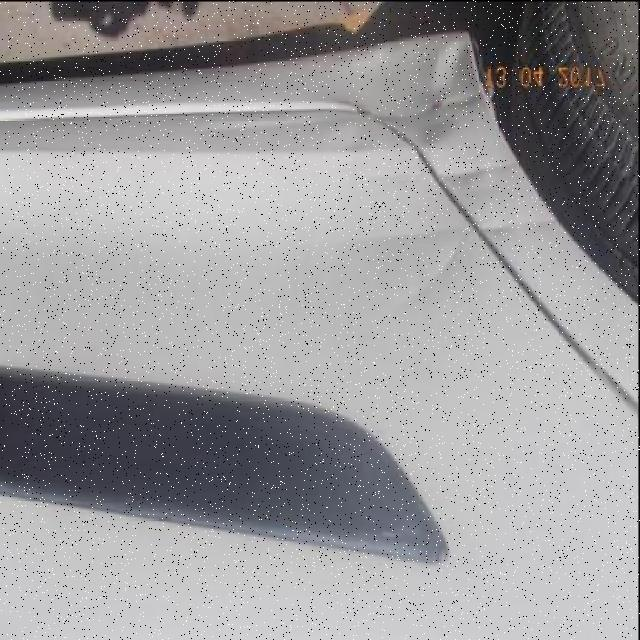damage: (201, 37, 486, 160), (372, 150, 523, 202), (351, 209, 560, 245), (408, 229, 472, 307)
